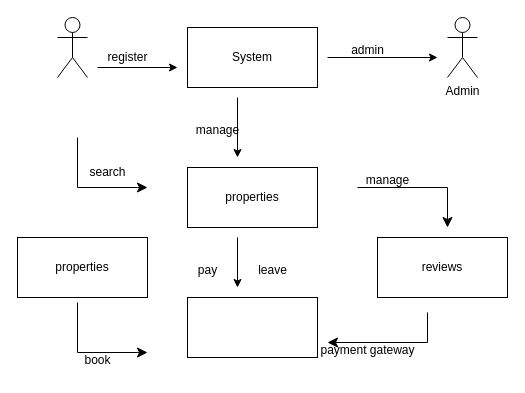
This 525x393 diagram has some shape labels left out. Here are the shapes that lost their labels. From the top down, the centre of each, then its label:
[72,47]: User
[252,327]: payments
